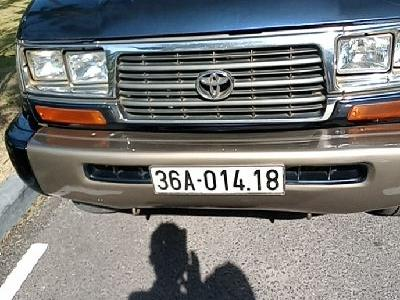lisence: (148, 164, 286, 197)
